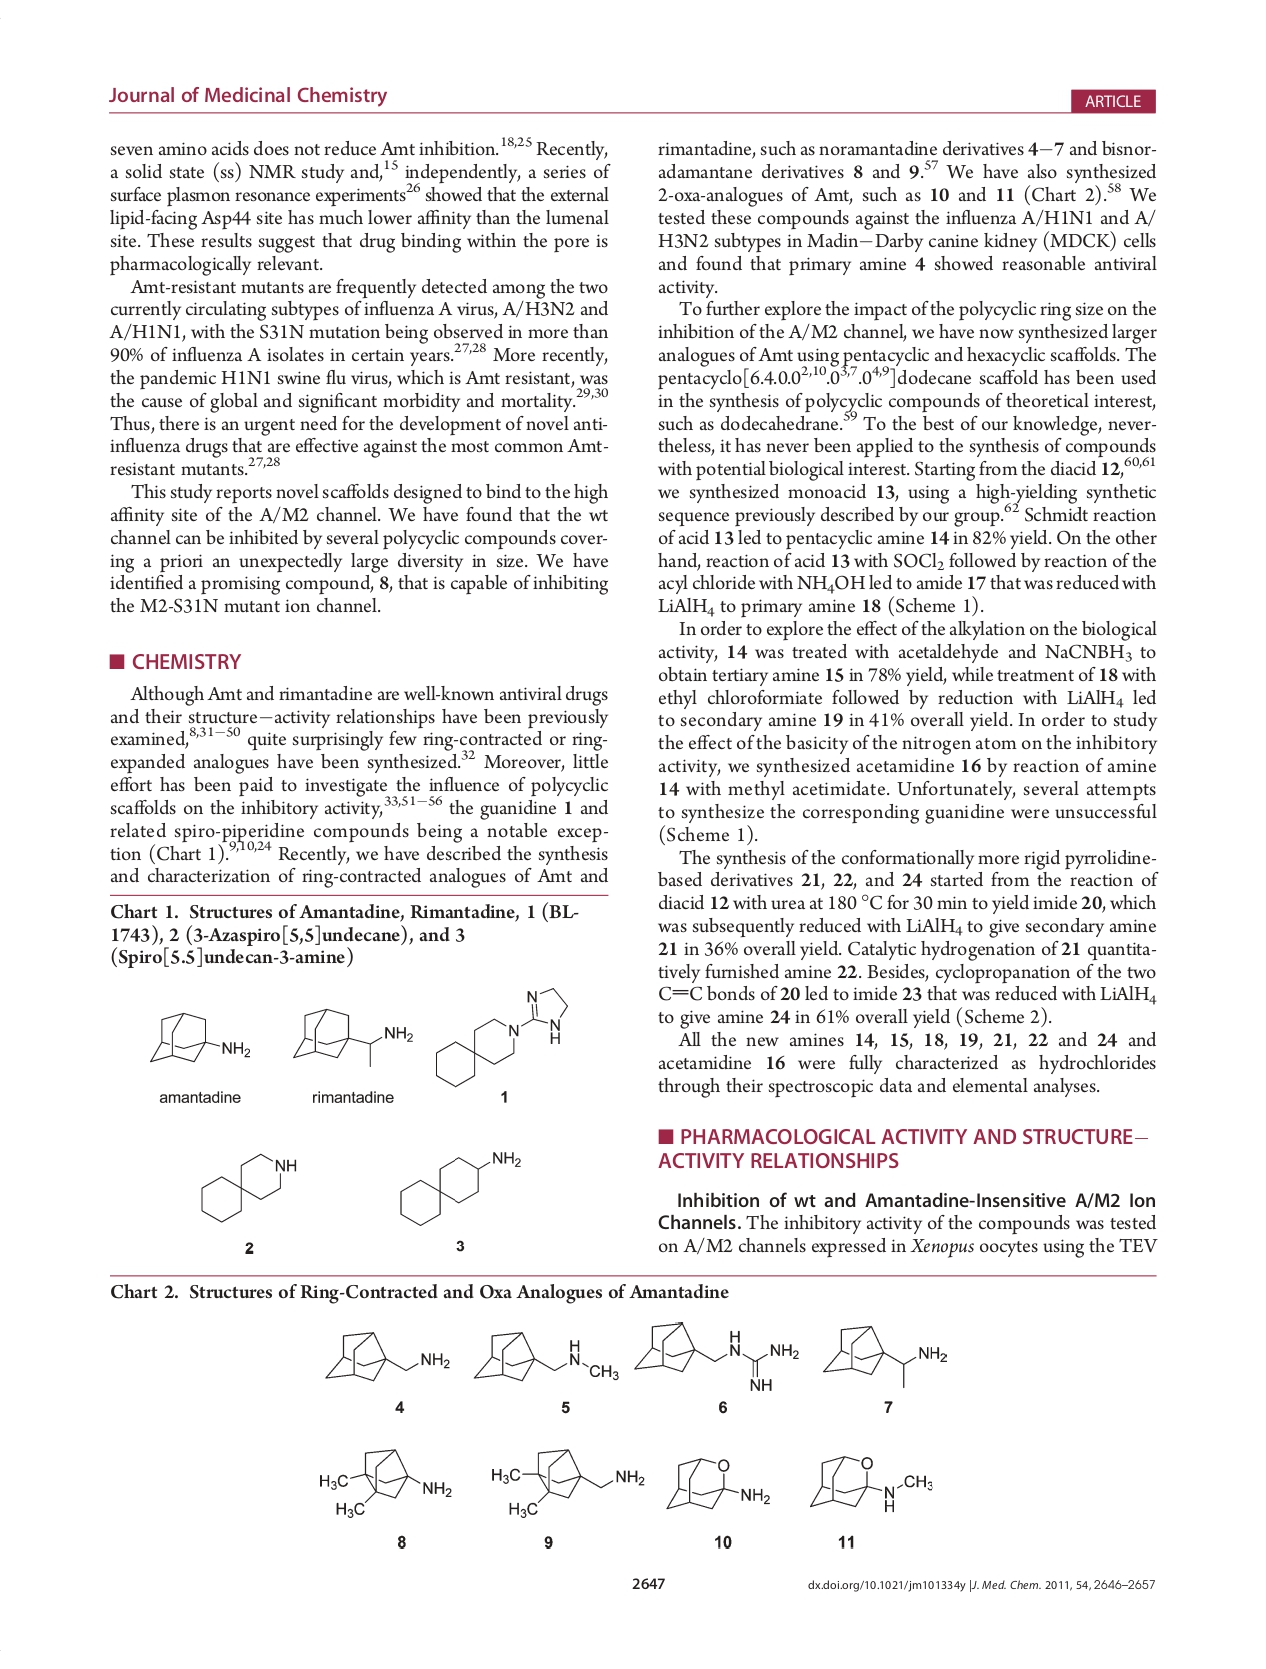exist_molecular: (434, 985, 570, 1091), (484, 1446, 652, 1521), (630, 1319, 801, 1394), (316, 1446, 457, 1521), (398, 1145, 524, 1227), (471, 1327, 624, 1390), (821, 1321, 949, 1388), (290, 1003, 416, 1071), (320, 1326, 453, 1388), (195, 1146, 297, 1225), (805, 1454, 934, 1513), (664, 1454, 773, 1513), (144, 1008, 254, 1067)
